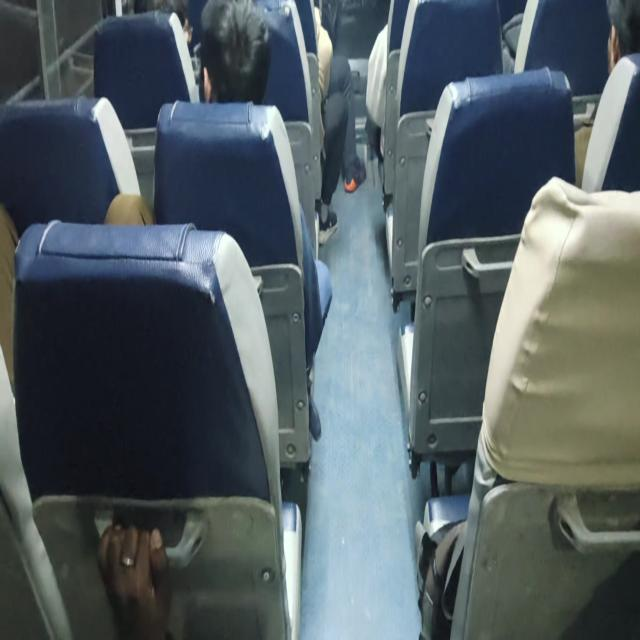person: (195, 0, 332, 441), (573, 0, 639, 190), (96, 518, 173, 638), (198, 0, 272, 104), (605, 0, 639, 75)
